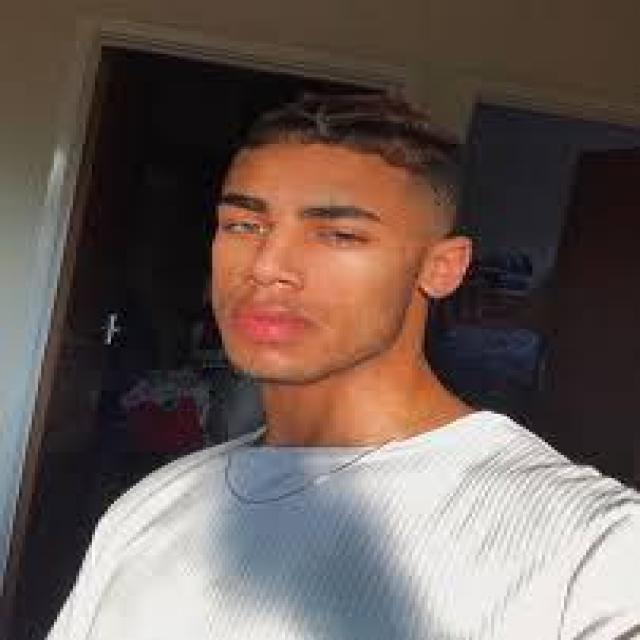person: (51, 90, 624, 637)
